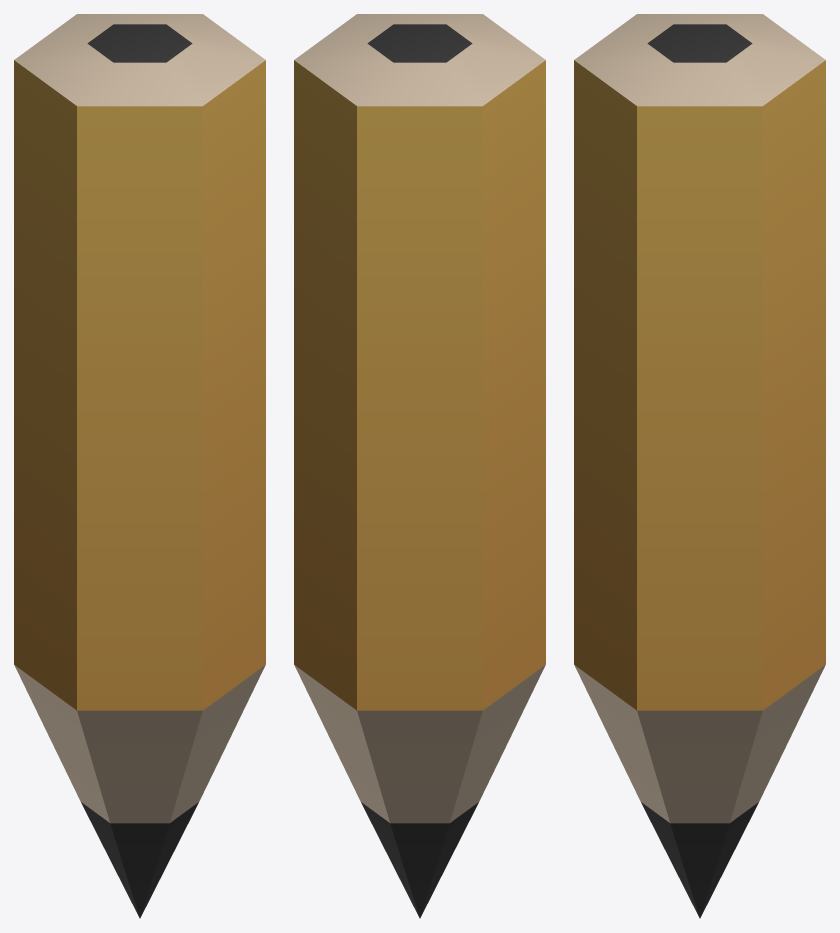
Rendered from pencil_A_short.fbx.
3 views of the same model, side by side, from view 1: azimuth 30°, elevation 25°; view 2: azimuth 150°, elevation 25°; view 3: azimuth 270°, elevation 25° (orthographic).
Visible parts, largest first — view 1: pencil_A_short; view 2: pencil_A_short; view 3: pencil_A_short.
Boxes of the visible parts, x1,y1,x2,y2 form: pencil_A_short: (14, 14, 265, 918); pencil_A_short: (294, 14, 545, 918); pencil_A_short: (574, 14, 825, 918).
Bounding box in the file's own units: 8.61 × 38.12 × 9.94.
